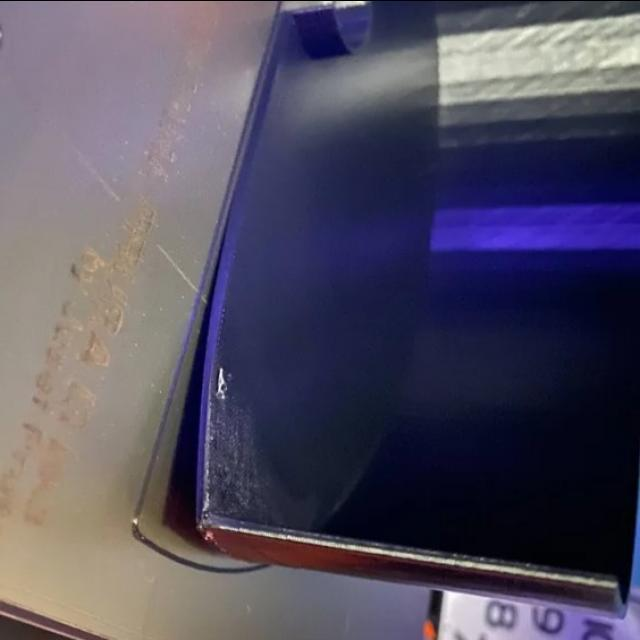Warping: (164, 422, 220, 542)
